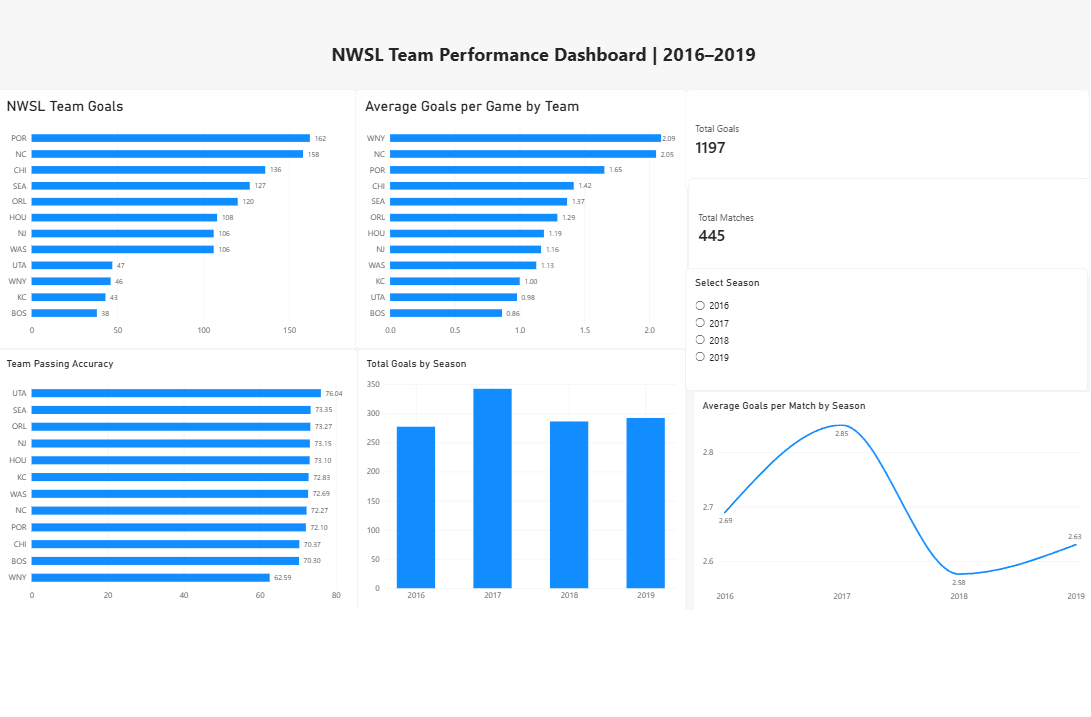

This screenshot's page, from the dashboard's own definition file:
{"tool":"powerbi","page":{"name":"NWSL Overview","canvas":[1920,1080],"ordinal":0},"visuals":[{"type":"clusteredBarChart","title":"NWSL Team Goals","fields":{"Category":["nwsl_teams_cleaned.team"],"Y":["Sum(nwsl_teams_cleaned.goals)"]},"box":[0,160,632.5,455],"z":2},{"type":"clusteredBarChart","title":"Average Goals per Game by Team ","fields":{"Category":["nwsl_teams_cleaned.team"],"Y":["nwsl_teams_cleaned.Avg Goals Per Game"]},"box":[630,160,582.5,455],"z":3},{"type":"clusteredBarChart","title":"Team Passing Accuracy ","fields":{"Category":["nwsl_teams_cleaned.team"],"Y":["nwsl_teams_cleaned.Passing Accuracy %"]},"box":[0,615,632.5,465],"z":4},{"type":"clusteredColumnChart","title":"Total Goals by Season","fields":{"Category":["nwsl_teams_cleaned.season"],"Y":["Sum(nwsl_teams_cleaned.goals)"]},"box":[632.5,615,577.5,465],"z":5},{"type":"cardVisual","fields":{"Data":["nwsl_teams_cleaned.Total Goals"]},"box":[1207.5,160,710,177.5],"z":6},{"type":"cardVisual","fields":{"Data":["nwsl_teams_cleaned.Total Matches"]},"box":[1212.5,315,707.5,177.5],"z":7},{"type":"listSlicer","title":"Select Season","fields":{"Values":["Seasons.season"]},"box":[1207.5,472.5,707.5,215],"z":8},{"type":"textbox","box":[0,75,1917.5,187.5],"z":9},{"type":"lineChart","title":"Average Goals per Match by Season","fields":{"Category":["Seasons.season"],"Y":["Seasons.Goals Per Match"]},"box":[1211,688,705,392],"z":10}]}

Visuals, with their boxes on the page's 1920x1080 design canvas (x1, y1, x2, y2). These are canvas units, not pixel positions in the 1091x717 screenshot, which may show the page scaled, cropped or inside an application window:
"NWSL Team Goals" clusteredBarChart: x1=0 y1=160 x2=632 y2=615
"Average Goals per Game by Team " clusteredBarChart: x1=630 y1=160 x2=1212 y2=615
"Team Passing Accuracy " clusteredBarChart: x1=0 y1=615 x2=632 y2=1080
"Total Goals by Season" clusteredColumnChart: x1=632 y1=615 x2=1210 y2=1080
cardVisual - nwsl_teams_cleaned.Total Goals: x1=1208 y1=160 x2=1918 y2=338
cardVisual - nwsl_teams_cleaned.Total Matches: x1=1212 y1=315 x2=1920 y2=492
"Select Season" listSlicer: x1=1208 y1=472 x2=1915 y2=688
textbox: x1=0 y1=75 x2=1918 y2=262
"Average Goals per Match by Season" lineChart: x1=1211 y1=688 x2=1916 y2=1080
